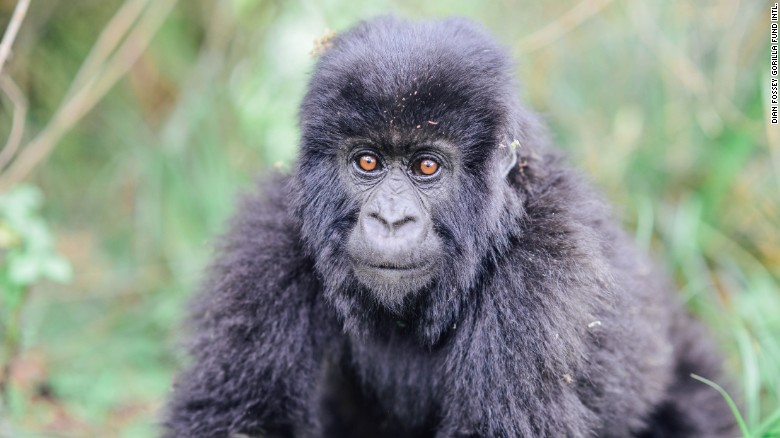Goriila: (164, 5, 723, 437)
